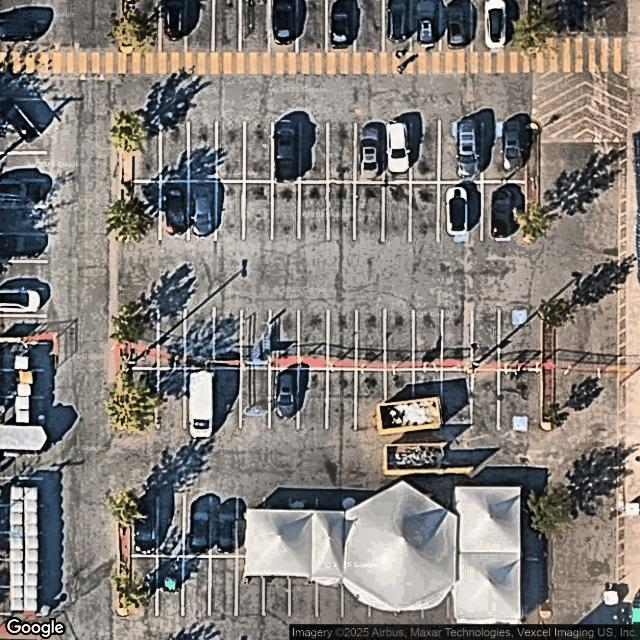car: (1, 97, 42, 144), (188, 371, 214, 437), (275, 121, 300, 180), (190, 184, 216, 236), (0, 176, 44, 205), (458, 118, 480, 176), (164, 182, 187, 233), (136, 499, 157, 553), (1, 286, 42, 313), (276, 371, 299, 419), (362, 125, 382, 176), (502, 121, 523, 169), (490, 188, 510, 238), (417, 0, 439, 44), (272, 0, 295, 42), (0, 17, 42, 40), (389, 123, 408, 173), (193, 500, 212, 549), (485, 2, 506, 46), (448, 2, 469, 46), (447, 191, 469, 233), (388, 0, 410, 41), (162, 0, 185, 39), (0, 234, 39, 256), (221, 504, 238, 550), (332, 5, 352, 43)
lot_boundary: (0, 0, 542, 639)
objects: (116, 125, 136, 242), (118, 313, 136, 424), (118, 498, 134, 612), (525, 125, 540, 239), (120, 0, 133, 53)
stall: (507, 556, 546, 622), (499, 372, 542, 429), (499, 311, 541, 368), (501, 497, 543, 553), (384, 308, 416, 368), (478, 554, 506, 622), (413, 310, 445, 369), (326, 367, 356, 429), (440, 308, 471, 368), (300, 310, 332, 368), (327, 120, 357, 181), (396, 553, 423, 618), (355, 370, 384, 430), (215, 311, 245, 369), (156, 365, 184, 427), (242, 366, 270, 428), (273, 116, 300, 180), (355, 310, 384, 369), (300, 364, 327, 427), (160, 180, 188, 240), (342, 556, 370, 616), (185, 554, 211, 618), (161, 123, 190, 180), (441, 370, 470, 427), (210, 558, 238, 617), (414, 117, 439, 183), (302, 178, 329, 239), (386, 369, 413, 430), (369, 555, 395, 618), (236, 557, 264, 615), (210, 499, 238, 557), (472, 370, 500, 428), (157, 311, 185, 369), (271, 309, 299, 367), (188, 122, 215, 182), (356, 180, 383, 240), (219, 180, 246, 240), (0, 423, 52, 454), (135, 179, 161, 240), (245, 182, 272, 240), (0, 370, 54, 399), (325, 0, 355, 52), (133, 498, 159, 558), (240, 0, 271, 50), (497, 0, 528, 50), (273, 183, 300, 240), (291, 558, 318, 615), (187, 370, 214, 427), (244, 311, 271, 368), (451, 497, 476, 558), (482, 184, 509, 240), (383, 185, 410, 241), (471, 314, 498, 370), (357, 0, 386, 52), (187, 181, 213, 239), (246, 121, 272, 179), (329, 180, 355, 238), (439, 182, 464, 242), (219, 122, 244, 182), (412, 182, 437, 242), (360, 121, 387, 176), (318, 501, 345, 556), (293, 501, 319, 558), (185, 0, 214, 51), (159, 497, 184, 556), (343, 500, 369, 556), (370, 501, 396, 557), (423, 499, 449, 555), (185, 498, 210, 556), (188, 310, 213, 368), (304, 122, 328, 182), (242, 498, 266, 558), (453, 555, 475, 620), (133, 0, 161, 51), (439, 117, 462, 179), (426, 556, 449, 618), (501, 122, 525, 181), (483, 117, 505, 181), (212, 0, 239, 52), (387, 120, 410, 181), (320, 557, 343, 618), (273, 369, 298, 425), (1, 342, 51, 370), (0, 97, 46, 127), (137, 122, 160, 182), (300, 0, 327, 51), (0, 506, 49, 534), (135, 553, 157, 615), (416, 370, 442, 422), (398, 501, 423, 555), (159, 559, 183, 615), (136, 309, 159, 367), (271, 0, 297, 51), (386, 0, 412, 51), (445, 0, 471, 51), (332, 309, 354, 369), (461, 119, 482, 181), (415, 0, 441, 50), (0, 397, 52, 422), (0, 234, 46, 262), (476, 498, 499, 554), (0, 586, 46, 614), (1, 177, 45, 206), (161, 0, 186, 51), (135, 367, 158, 422), (216, 371, 239, 426), (0, 287, 45, 315), (473, 2, 499, 50), (268, 499, 289, 558), (267, 558, 289, 614), (505, 183, 526, 240), (0, 153, 46, 179), (1, 479, 43, 507), (0, 534, 47, 559), (2, 126, 45, 153), (2, 560, 46, 586), (0, 262, 45, 287), (1, 315, 47, 339), (0, 17, 47, 40), (0, 208, 45, 232), (464, 182, 482, 238), (0, 77, 45, 99), (0, 0, 48, 19)
